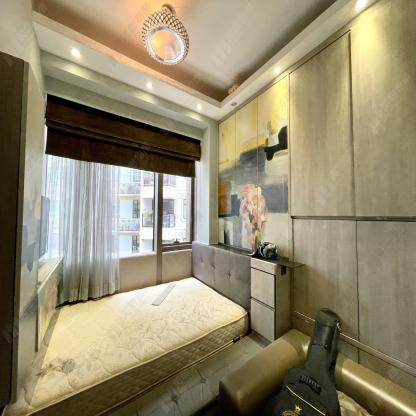Bed: (0, 240, 251, 416)
